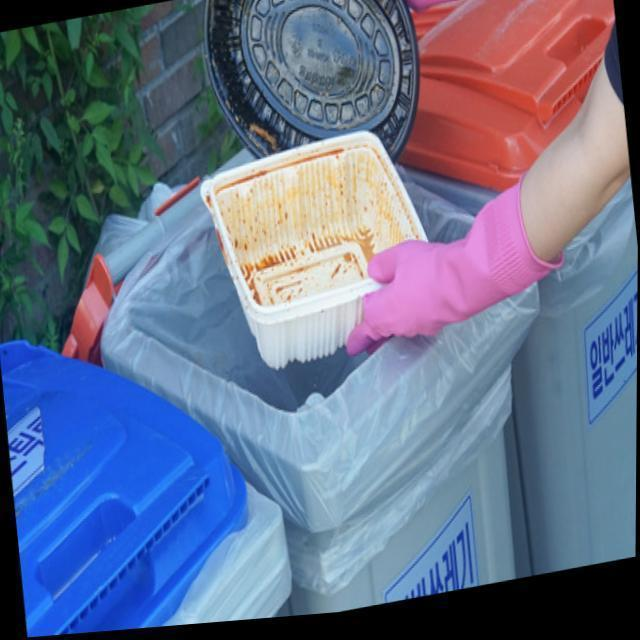disposable: (164, 138, 488, 372)
